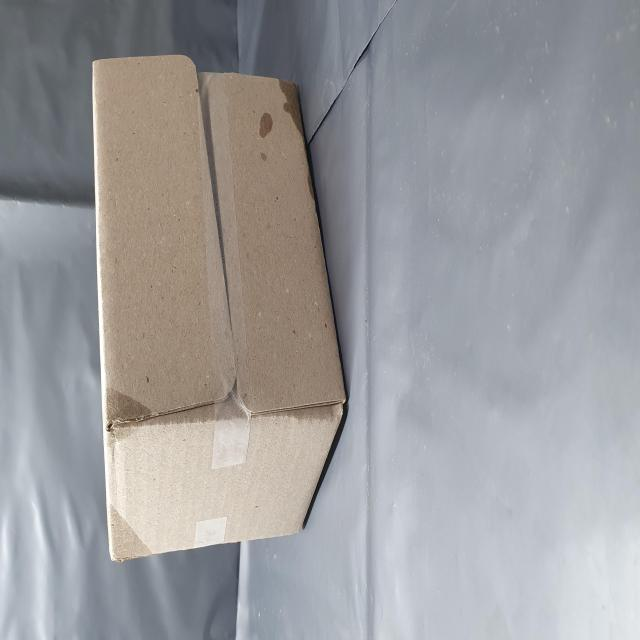wet: (45, 198, 85, 274), (282, 454, 319, 536), (115, 192, 146, 284)
